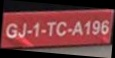character: (5, 23, 17, 38), (71, 21, 83, 36), (55, 21, 66, 36), (46, 21, 56, 36), (17, 22, 26, 38), (91, 19, 99, 35), (100, 20, 109, 34), (32, 22, 39, 38), (83, 20, 90, 36)
